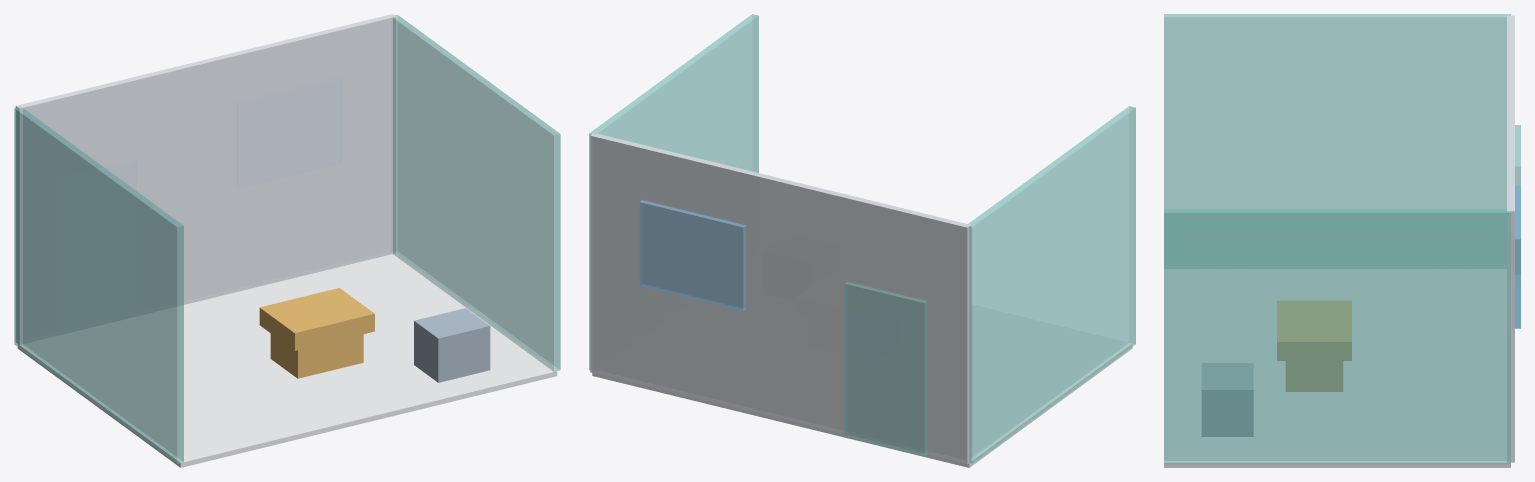
Rendered from demo-room.glb.
3 renders of one model, left to right at view 1: azimuth 30°, elevation 25°; view 2: azimuth 150°, elevation 25°; view 3: azimuth 270°, elevation 25°, orthographic. The views are drawn at different scales.
Parts seen in each view (by area): view 1: VRQC demo room; view 2: VRQC demo room; view 3: VRQC demo room.
Boxes of the visible parts, x1,y1,x2,y2 form: VRQC demo room: (14,14,560,467); VRQC demo room: (589,14,1135,467); VRQC demo room: (1164,14,1520,467).
Bounding box in the file's own units: 4.07 × 2.45 × 3.09.
